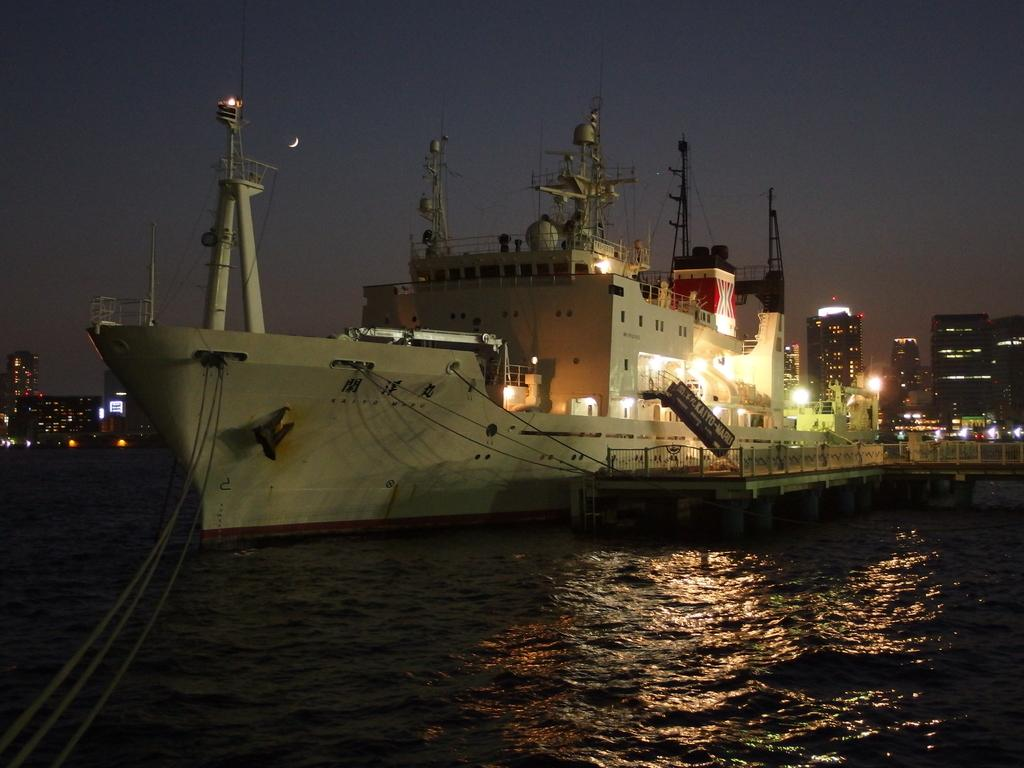Warship: (39, 82, 873, 554)
